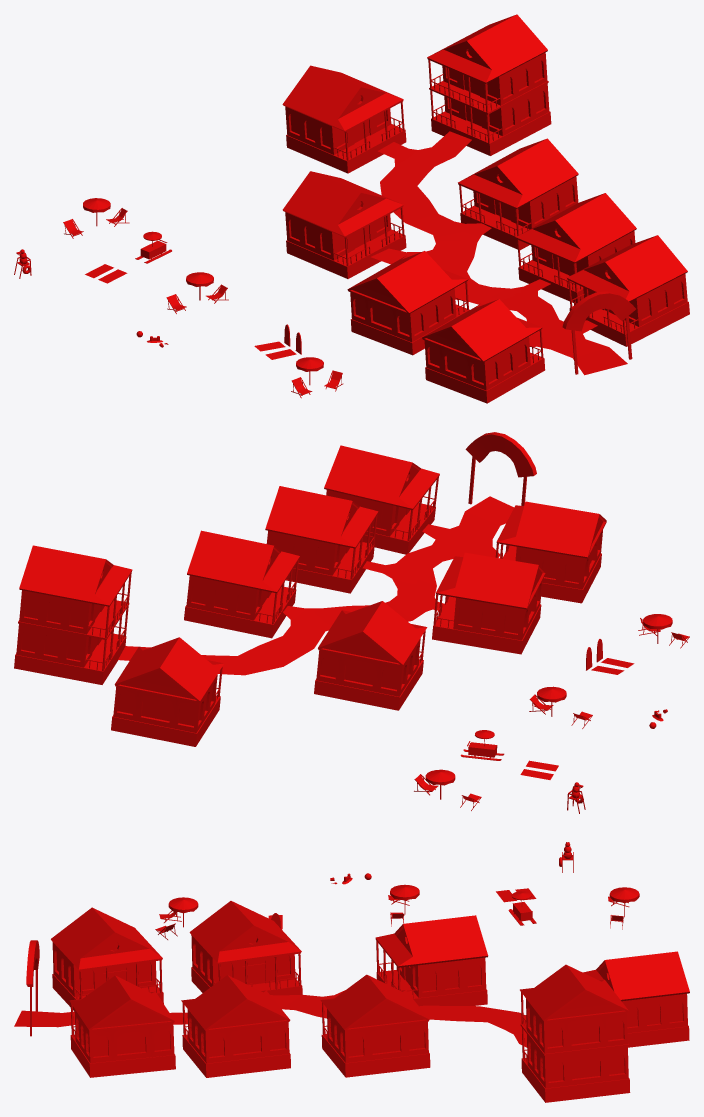
Rendered from Neighborhood_BowlcutBeachLocked.glb.
The picture shows the model from 3 angles, top to bottom: view 1: azimuth 30°, elevation 25°; view 2: azimuth 150°, elevation 25°; view 3: azimuth 270°, elevation 25°; orthographic projection. The views are drawn at different scales.
Visible parts, largest first — view 1: Neighborhood_BowlcutBeach_Locked, Object_BowlCutRoad1; view 2: Neighborhood_BowlcutBeach_Locked, Object_BowlCutRoad1; view 3: Neighborhood_BowlcutBeach_Locked, Object_BowlCutRoad1.
Boxes of the visible parts, x1,y1,x2,y2 form: Neighborhood_BowlcutBeach_Locked: (14, 14, 689, 403); Object_BowlCutRoad1: (371, 131, 627, 375); Neighborhood_BowlcutBeach_Locked: (14, 432, 689, 813); Object_BowlCutRoad1: (118, 496, 514, 675); Neighborhood_BowlcutBeach_Locked: (26, 842, 689, 1102); Object_BowlCutRoad1: (14, 990, 527, 1047).
Bounding box in the file's own units: 45.37 × 11.29 × 47.97.
